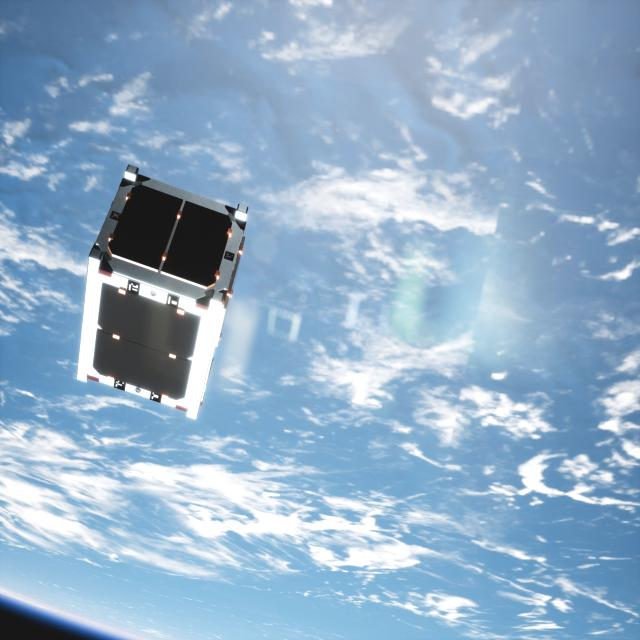medium_debris: (72, 159, 246, 422)
